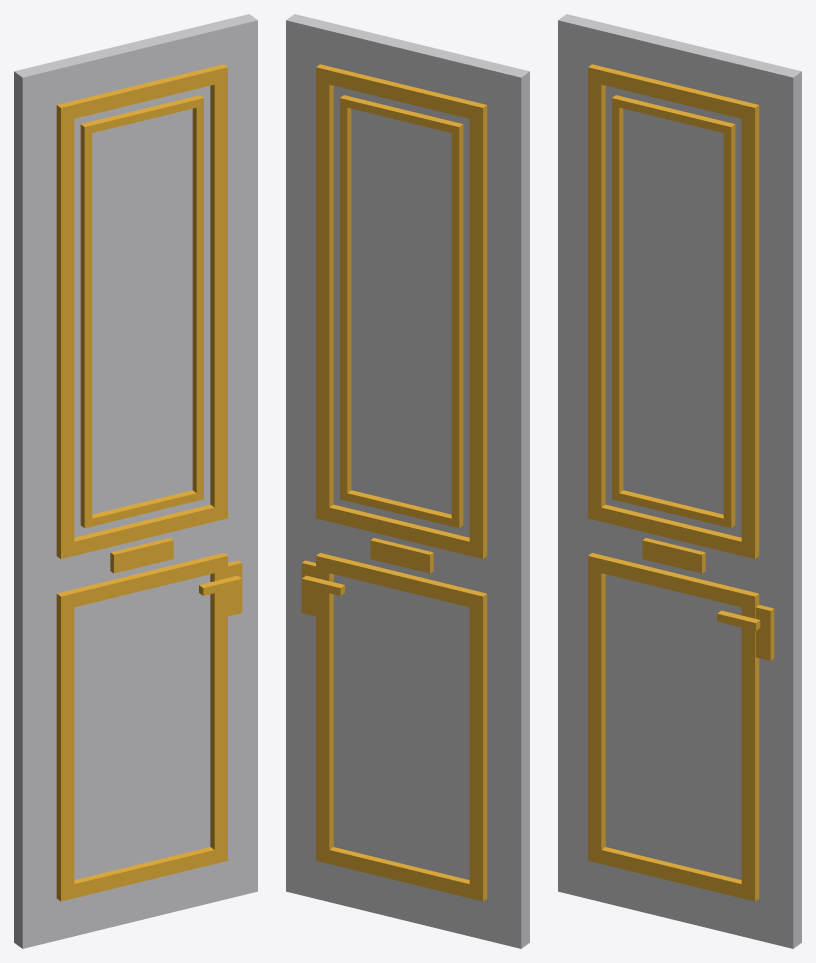
File: SM_Door_obelisk_inner_80x280.fbx
3 renders of one model, left to right at view 1: azimuth 30°, elevation 25°; view 2: azimuth 150°, elevation 25°; view 3: azimuth 330°, elevation 25°, orthographic.
Parts seen in each view (by area): view 1: SM_Door_obelisk_inner_80x280; view 2: SM_Door_obelisk_inner_80x280; view 3: SM_Door_obelisk_inner_80x280.
Part boxes in pixels (bbox=[...]): SM_Door_obelisk_inner_80x280: bbox=[14, 14, 257, 948]; SM_Door_obelisk_inner_80x280: bbox=[286, 14, 529, 948]; SM_Door_obelisk_inner_80x280: bbox=[558, 14, 801, 948].
Bounding box in the file's own units: 0.788 × 2.79 × 0.175.
